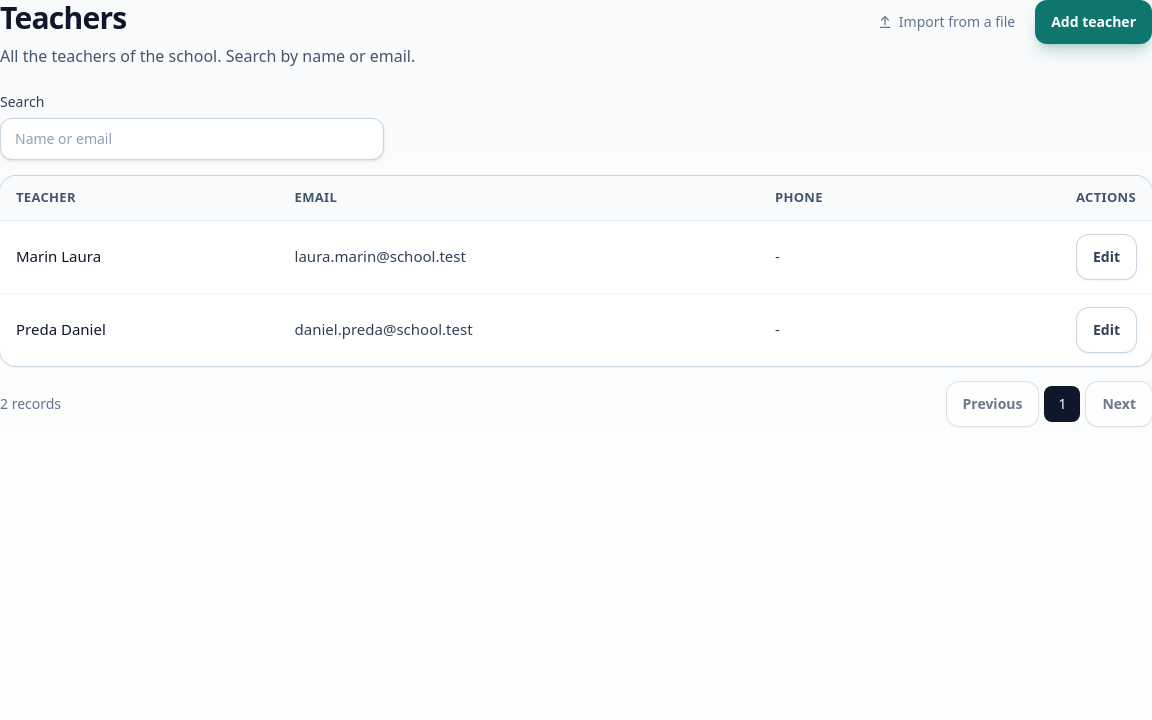
Test: AdminTeachersPage › deletes a teacher after confirmation
Click the button "Edit" in the row of "Marin Laura" at (1106, 256), box [1077,234,1136,278]
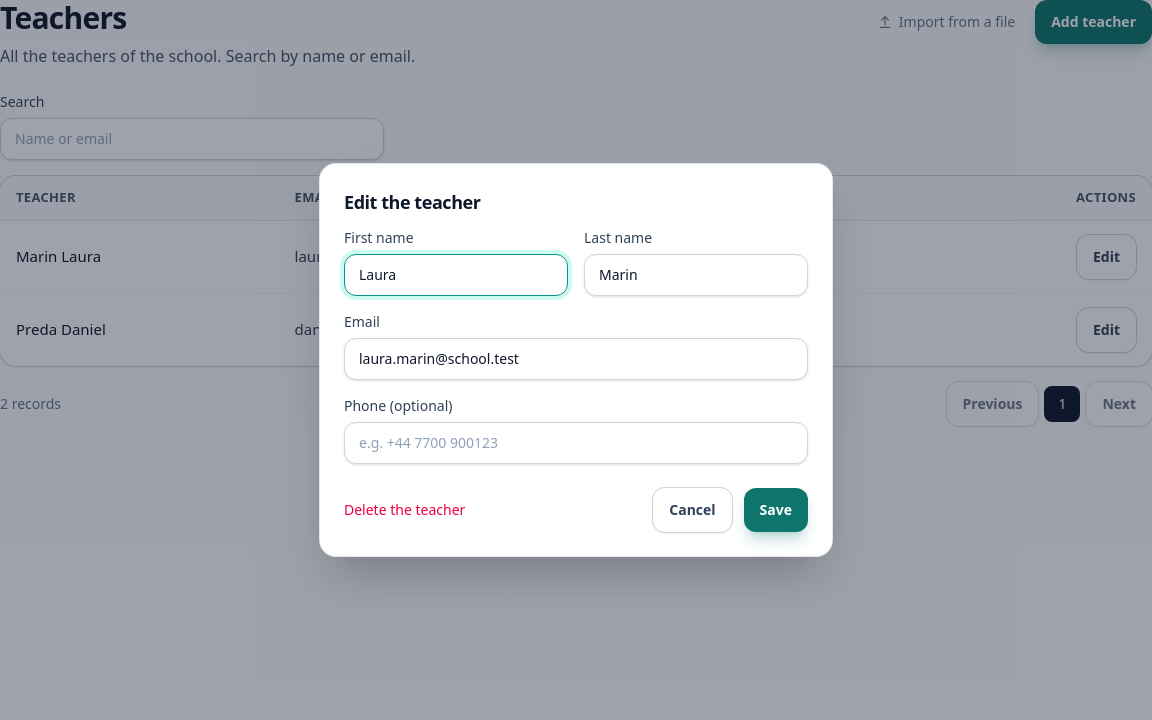
Click the button "Delete the teacher" at (405, 510), box [344,500,465,520]
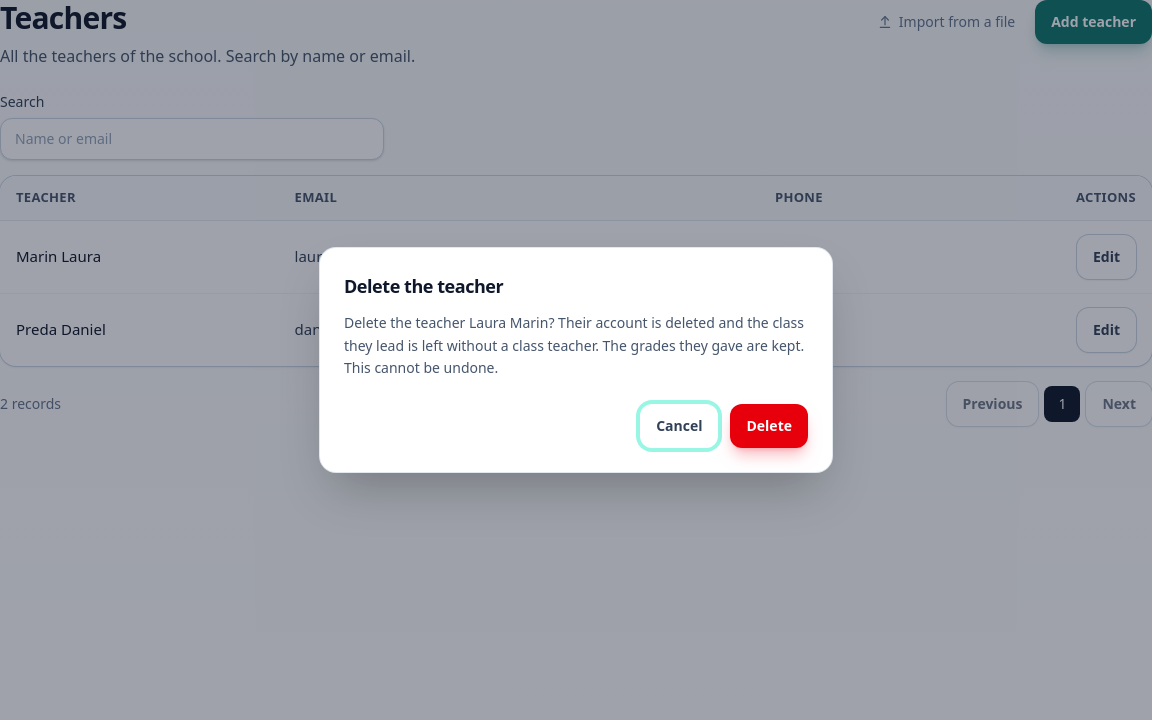
Click the button "Delete" at (769, 426), box [730,404,808,448]
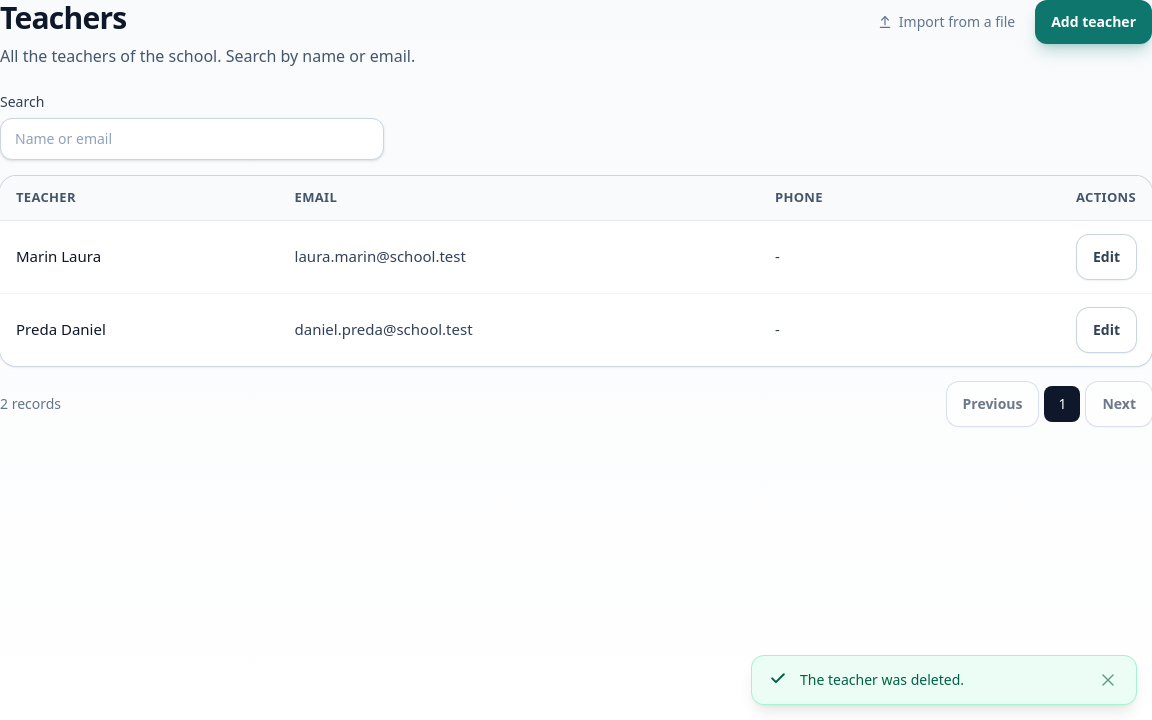
Result: the text "The teacher was deleted." is shown at [800,670,964,689]
